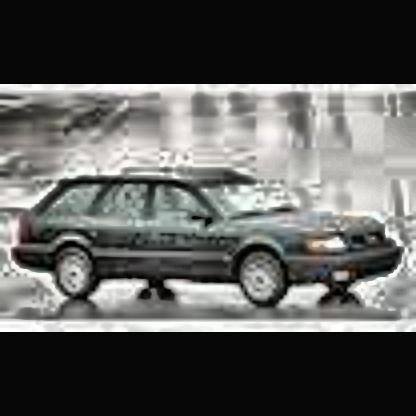Audi 100 Wagon 1994: (9, 161, 416, 326)
